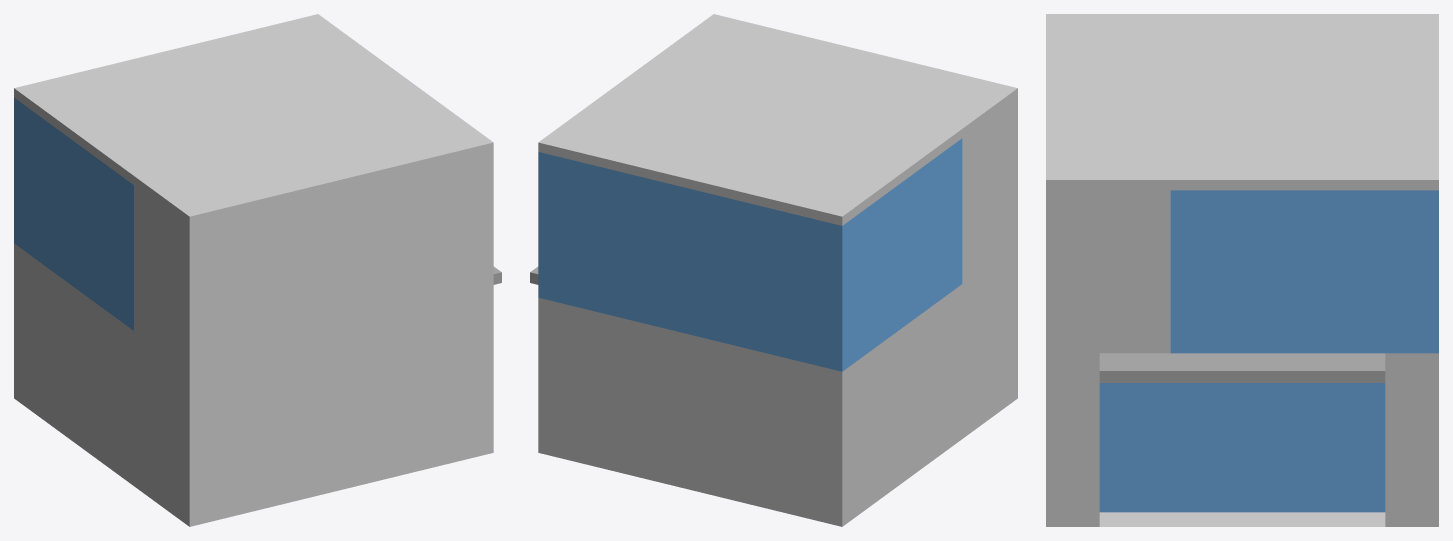
The model's file is building_1x1_12_g.glb.
The picture shows the model from 3 angles, left to right: view 1: azimuth 30°, elevation 25°; view 2: azimuth 150°, elevation 25°; view 3: azimuth 270°, elevation 25°; orthographic projection. The views are drawn at different scales.
Parts seen in each view (by area): view 1: Cube; view 2: Cube; view 3: Cube.
Boxes of the visible parts, x1,y1,x2,y2 form: Cube: (14,14,501,526); Cube: (530,14,1017,526); Cube: (1046,14,1438,526).
Bounding box in the file's own units: 1.81 × 1.6 × 1.64.
